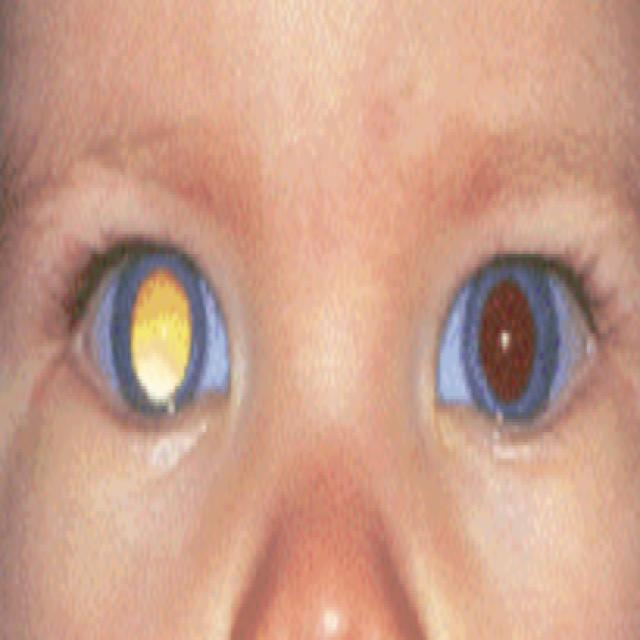reflexo-alterado: (117, 252, 207, 425)
reflexo-normal: (461, 262, 552, 431)
